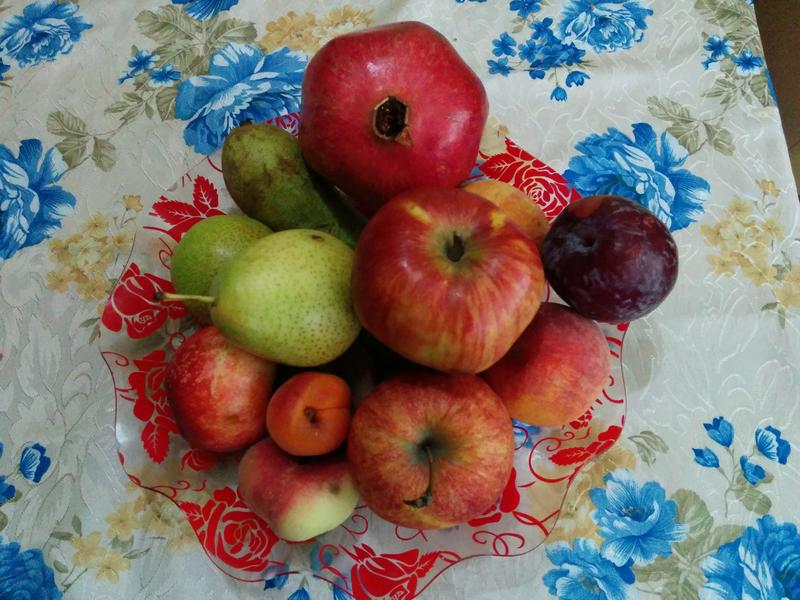apple: (351, 184, 560, 371), (351, 369, 519, 530)
